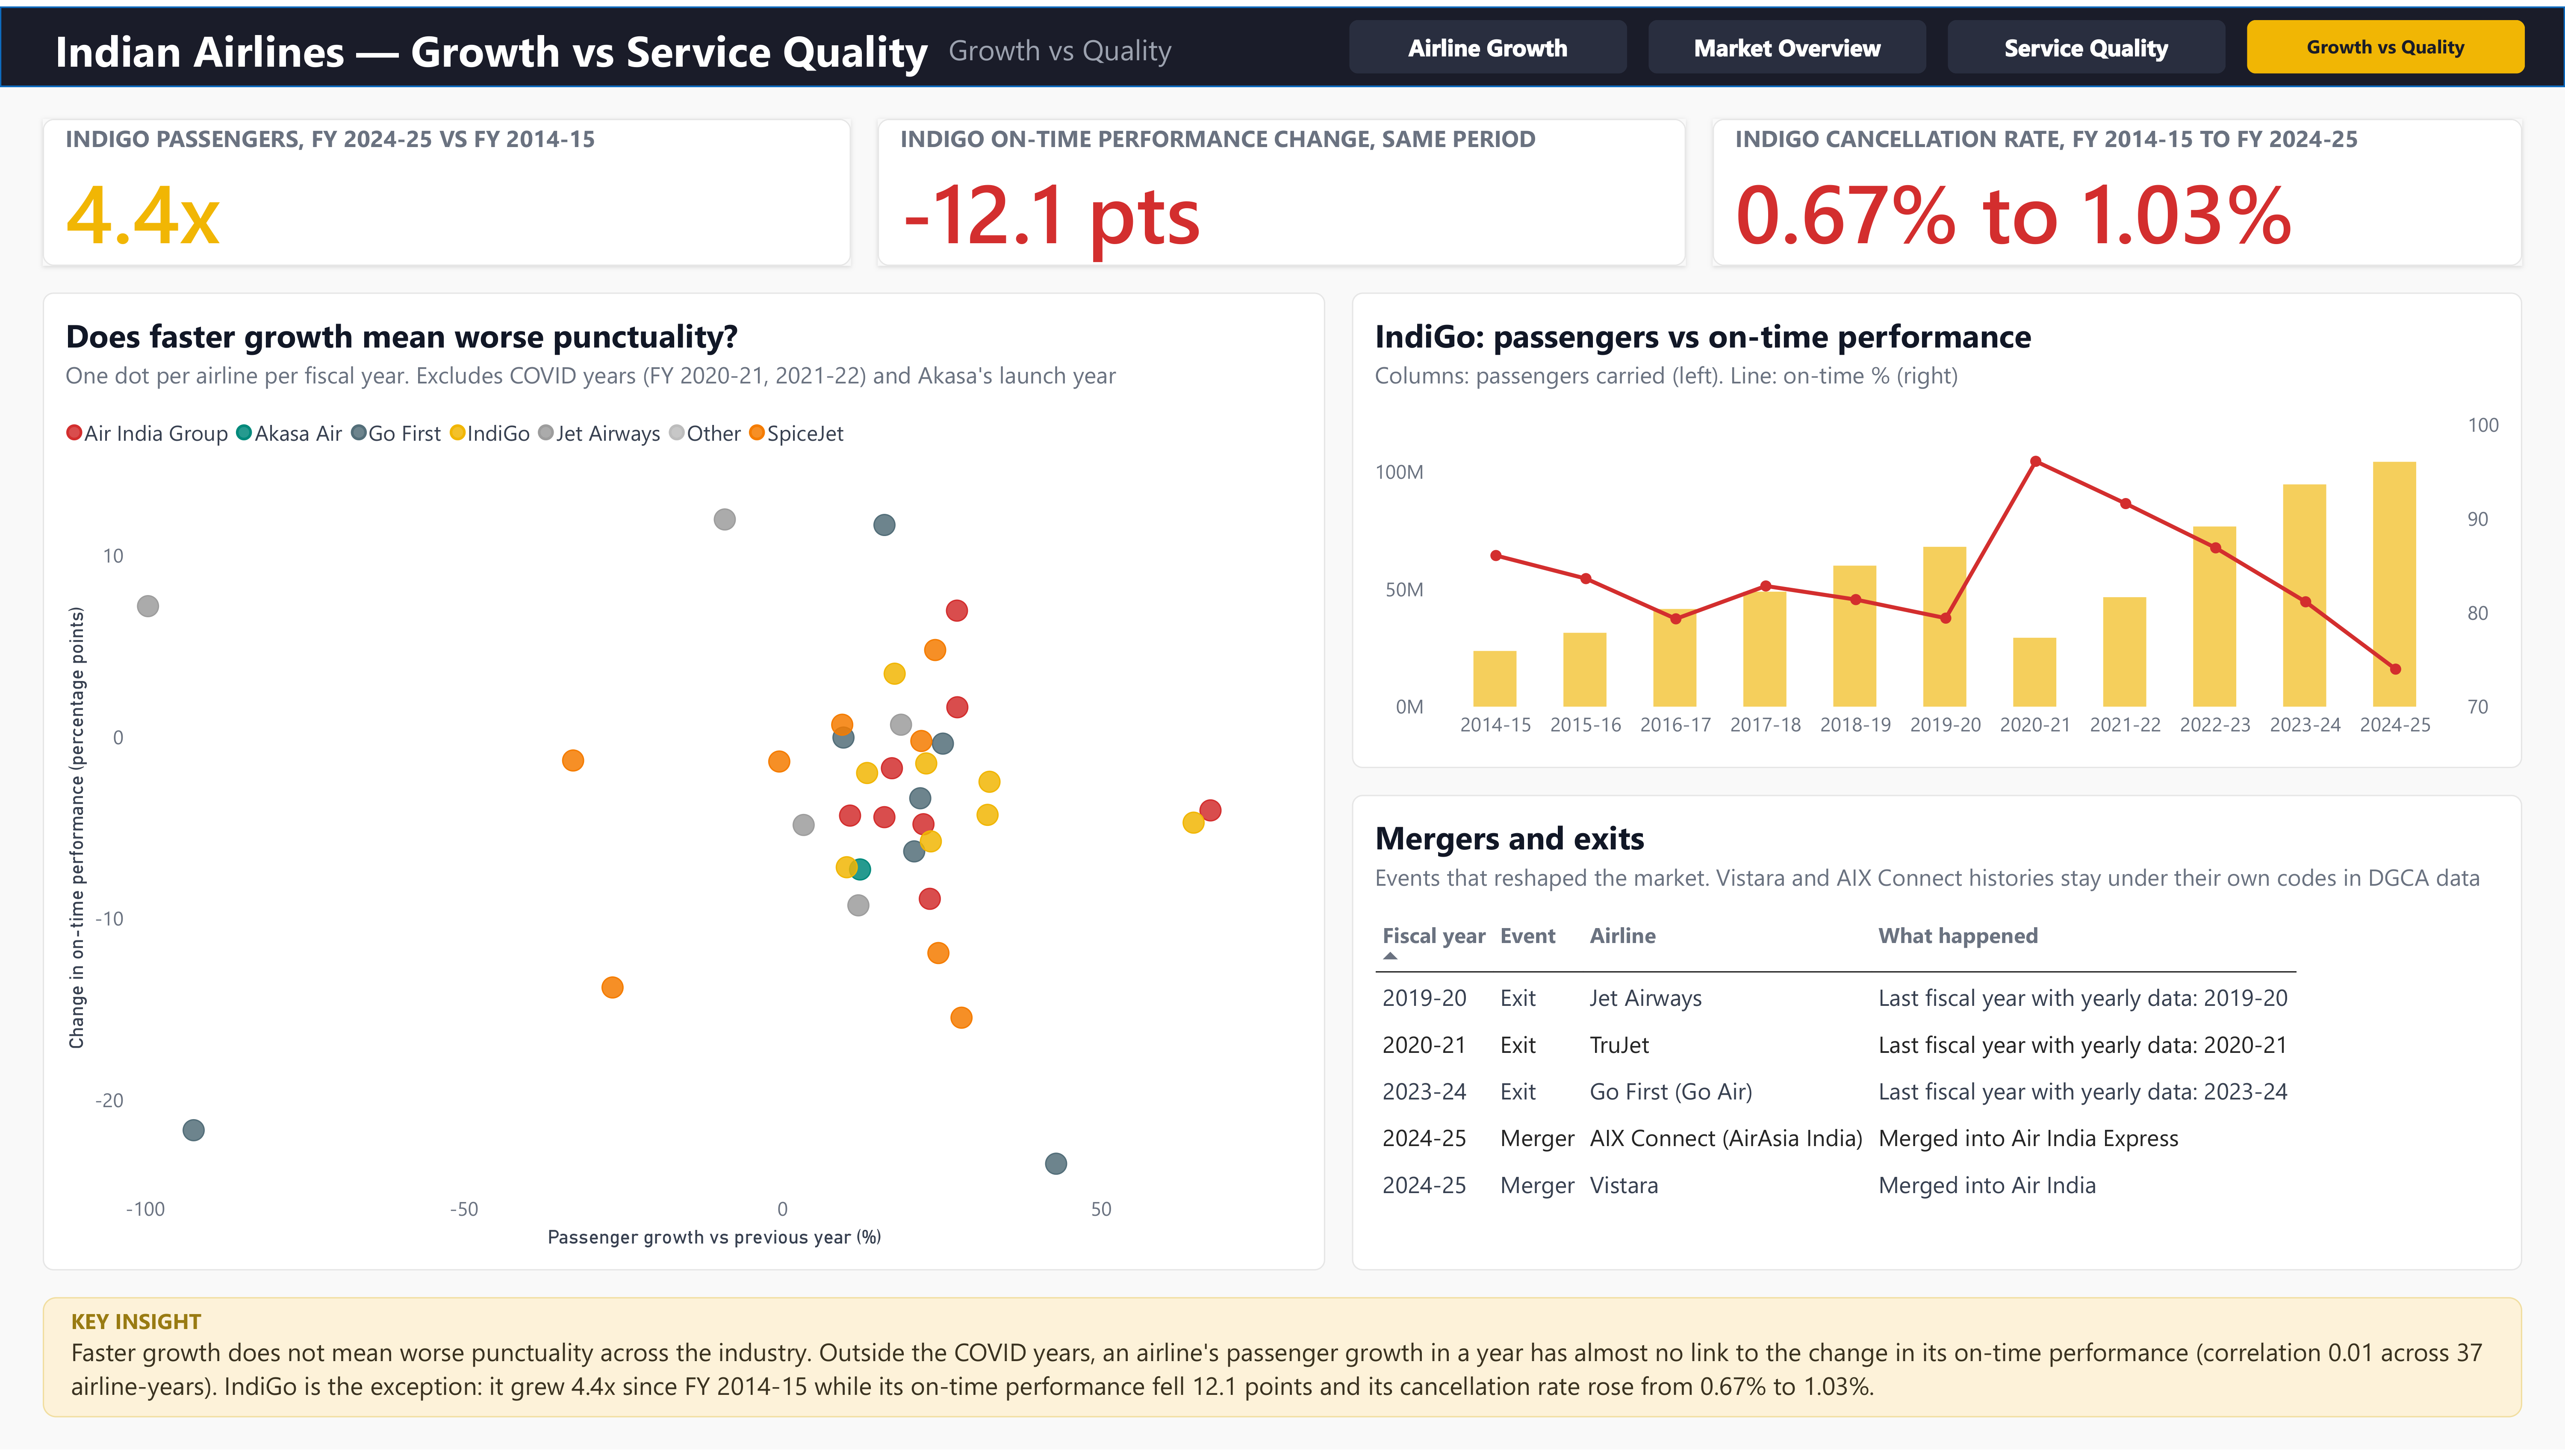

The page's visual inventory and layout, read from the dashboard file:
{"tool":"powerbi","page":{"name":"Growth vs Quality","canvas":[1920,1080],"ordinal":3},"visuals":[{"type":"shape","box":[0,0,1920,60],"z":0},{"type":"textbox","box":[32,10,666,50],"z":1000},{"type":"textbox","box":[710,17,300,30],"z":2000},{"type":"cardVisual","fields":{"Data":["public v_growth_vs_quality.IndiGo Scale Multiple"]},"box":[32,84,605,110],"z":2001},{"type":"cardVisual","fields":{"Data":["public v_growth_vs_quality.IndiGo OTP Change"]},"box":[657,84,605,110],"z":2002},{"type":"cardVisual","fields":{"Data":["public v_growth_vs_quality.IndiGo Cancellation Shift"]},"box":[1282,84,606,110],"z":2003},{"type":"scatterChart","title":"Does faster growth mean worse punctuality?","fields":{"Category":["public v_growth_vs_quality.fiscal_year","public v_growth_vs_quality.recon_group"],"Series":["public v_growth_vs_quality.Growth Airline"],"X":["Sum(public v_growth_vs_quality.passenger_yoy_growth_pct)"],"Y":["Sum(public v_growth_vs_quality.otp_pct_change_pts)"]},"box":[32,214,960,732],"z":2004},{"type":"lineClusteredColumnComboChart","title":"IndiGo: passengers vs on-time performance","fields":{"Category":["public v_growth_vs_quality.fiscal_year"],"Y":["Sum(public v_growth_vs_quality.passengers)"],"Y2":["Sum(public v_growth_vs_quality.avg_otp_pct)"]},"box":[1012,214,876,356],"z":2005},{"type":"tableEx","title":" Mergers and exits","fields":{"Values":["public v_market_events.event_fiscal_year","public v_market_events.event_type","public v_market_events.airline_name","public v_market_events.detail"]},"box":[1012,590,876,356],"z":2006},{"type":"textbox","box":[32,966,1856,90],"z":2008},{"type":"pageNavigator","box":[1010,10,880,40],"z":2009}]}

Visuals, with their boxes in screenshot pixels (x1, y1, x2, y2), scaled from the page's 1920x1080 canvas onto the 2565x1456 screenshot:
shape: bbox=(0, 0, 2565, 81)
textbox: bbox=(43, 14, 932, 81)
textbox: bbox=(949, 23, 1349, 63)
cardVisual - public v_growth_vs_quality.IndiGo Scale Multiple: bbox=(43, 113, 851, 262)
cardVisual - public v_growth_vs_quality.IndiGo OTP Change: bbox=(878, 113, 1686, 262)
cardVisual - public v_growth_vs_quality.IndiGo Cancellation Shift: bbox=(1713, 113, 2522, 262)
"Does faster growth mean worse punctuality?" scatterChart: bbox=(43, 289, 1325, 1275)
"IndiGo: passengers vs on-time performance" lineClusteredColumnComboChart: bbox=(1352, 289, 2522, 769)
" Mergers and exits" tableEx: bbox=(1352, 796, 2522, 1275)
textbox: bbox=(43, 1302, 2522, 1424)
pageNavigator: bbox=(1349, 14, 2525, 68)
